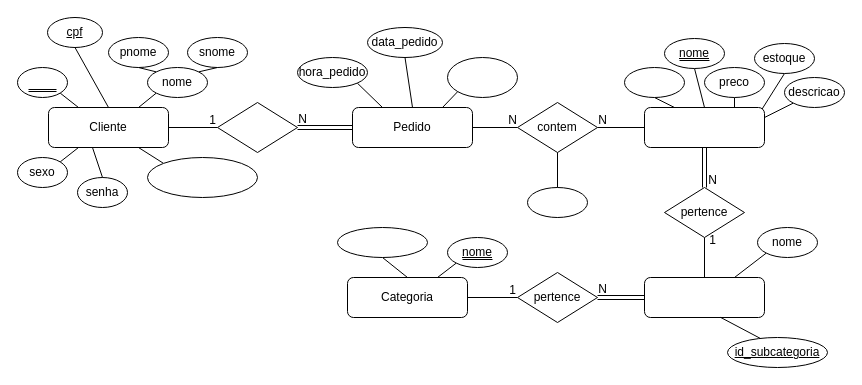
Image size: 862x385. Some labels were removed from this diagram. The shapes that lost their labels are listed below. From the top down, each one's centre as x and y in pixels, then its label:
At (42,82): "email".
At (482,77): "nota_fiscal".
At (654,82): "num".
At (257,127): "realiza".
At (704,127): "Produto".
At (202,177): "data_nascimento".
At (557,202): "qnt".
At (382,242): "id_categoria".
At (704,297): "SubCategoria".
